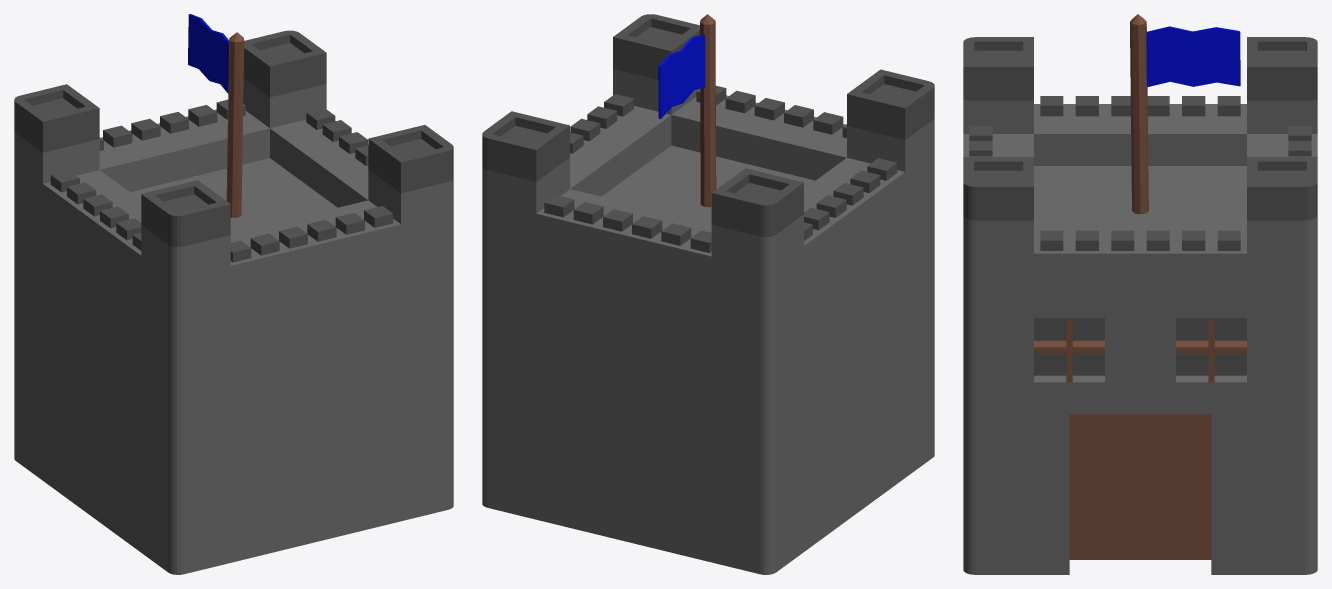
The picture shows the model from 3 angles, left to right: view 1: azimuth 30°, elevation 25°; view 2: azimuth 150°, elevation 25°; view 3: azimuth 270°, elevation 25°; orthographic projection. The views are drawn at different scales.
Parts seen in each view (by area): view 1: Base; view 2: Base; view 3: Base.
Boxes of the visible parts, x1=… form: Base: x1=14, y1=14, x2=453, y2=574; Base: x1=482, y1=14, x2=934, y2=574; Base: x1=963, y1=14, x2=1317, y2=574.
Size of the model in its own units: 200 by 303 by 200.
